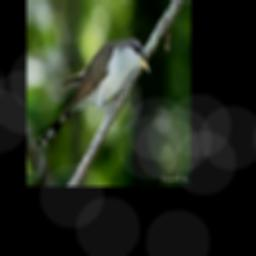Cuckoo: (37, 37, 150, 147)
